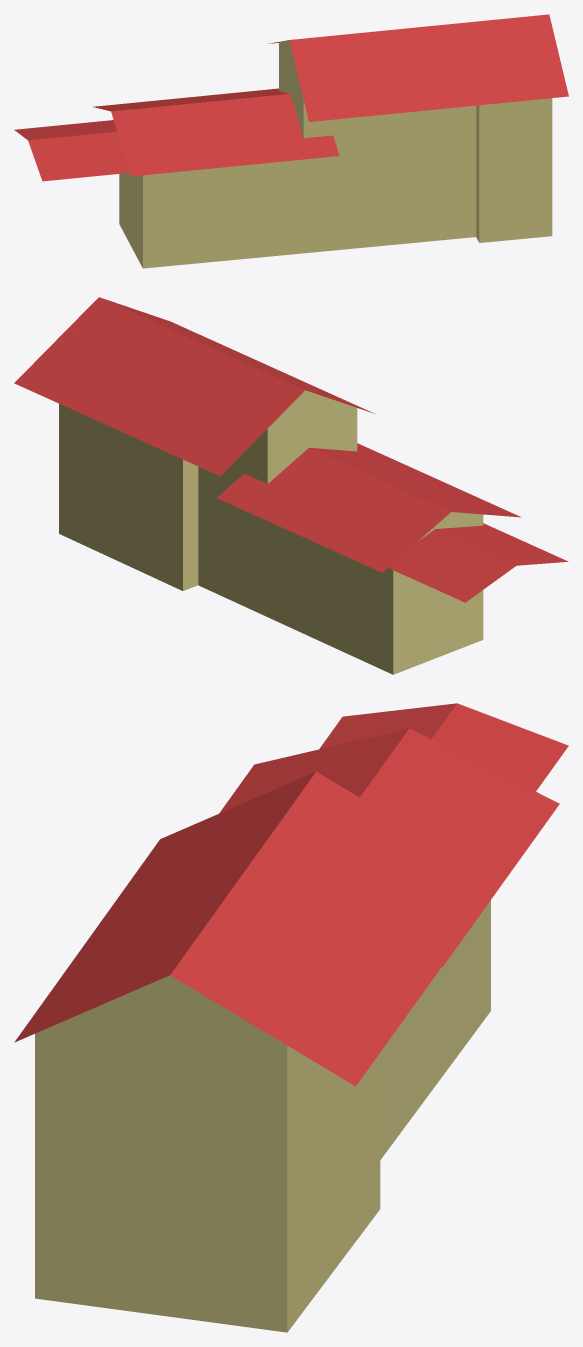
The picture shows the model from 3 angles, top to bottom: view 1: azimuth 30°, elevation 25°; view 2: azimuth 150°, elevation 25°; view 3: azimuth 270°, elevation 25°; orthographic projection. The views are drawn at different scales.
Parts seen in each view (by area): view 1: group_9, group_7, group_5, group_3, group_11, group_8, group_12, group_4; view 2: group_9, group_5, group_3, group_7, group_8, group_11, group_4, group_12; view 3: group_9, group_7, group_8, group_3, group_5, group_11, group_4, group_12.
Part boxes in pixels (box(x1,y1,x2,y2)): group_9: box(279, 40, 552, 250); group_7: box(268, 14, 568, 121); group_5: box(119, 156, 333, 268); group_3: box(93, 88, 339, 176); group_11: box(14, 120, 129, 181); group_8: box(304, 14, 548, 121); group_12: box(16, 121, 127, 180); group_4: box(96, 89, 331, 174); group_9: box(59, 334, 357, 605); group_5: box(244, 510, 483, 674); group_3: box(217, 443, 521, 572); group_7: box(14, 297, 361, 475); group_8: box(14, 297, 374, 475); group_11: box(388, 523, 568, 602); group_4: box(219, 447, 519, 570); group_12: box(391, 523, 566, 601); group_9: box(35, 975, 381, 1332); group_7: box(14, 771, 501, 1085); group_8: box(103, 821, 501, 1086); group_3: box(219, 728, 559, 966); group_5: box(381, 900, 490, 1158); group_11: box(319, 703, 568, 791); group_4: box(226, 729, 558, 965); group_12: box(322, 704, 567, 788).
Bounding box in the file's own units: 30.84 × 16.14 × 11.35.
